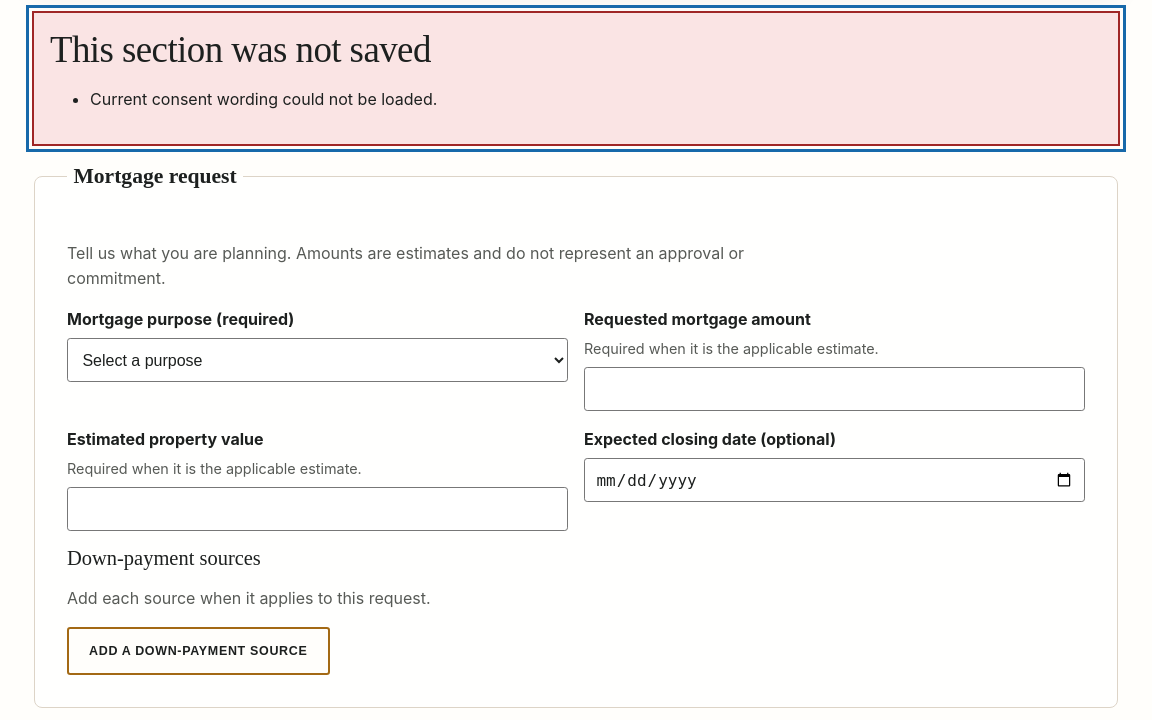
Test case: accountless borrower application form › preserves the current step and visible values on a server failure
The width and height of the screenshot is (1152, 720).
(page scrolled)
Select "Pre-approval" in the dropdown labelled "Mortgage purpose (required)": [318, 360] box x1=67 y1=338 x2=568 y2=382
(page scrolled)
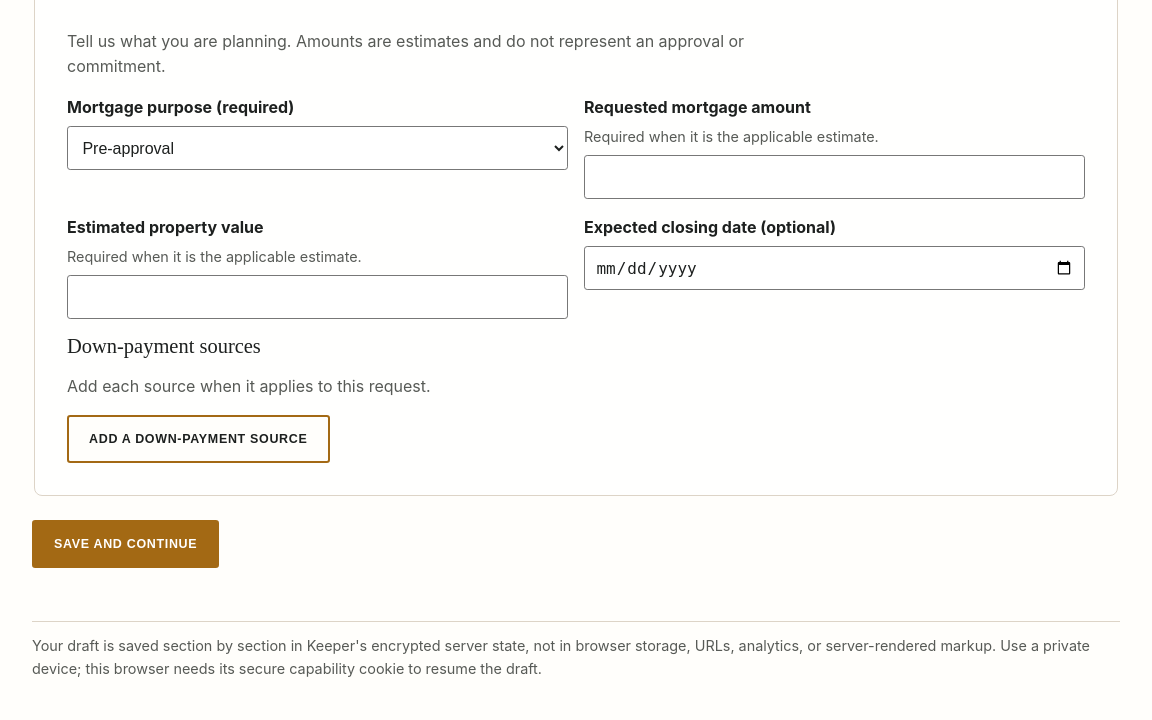
Click the button "Save and continue": [126, 544] box x1=32 y1=520 x2=219 y2=568
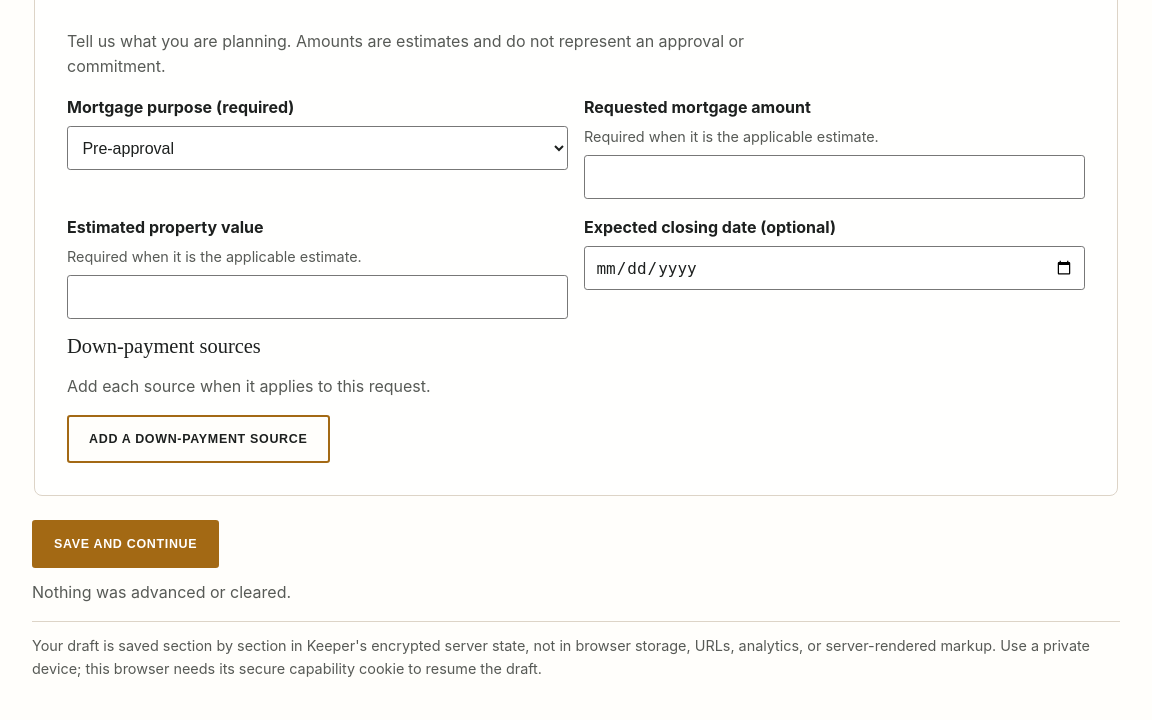
Now the text "Nothing was advanced or cleared." is shown, box x1=32 y1=582 x2=291 y2=602
